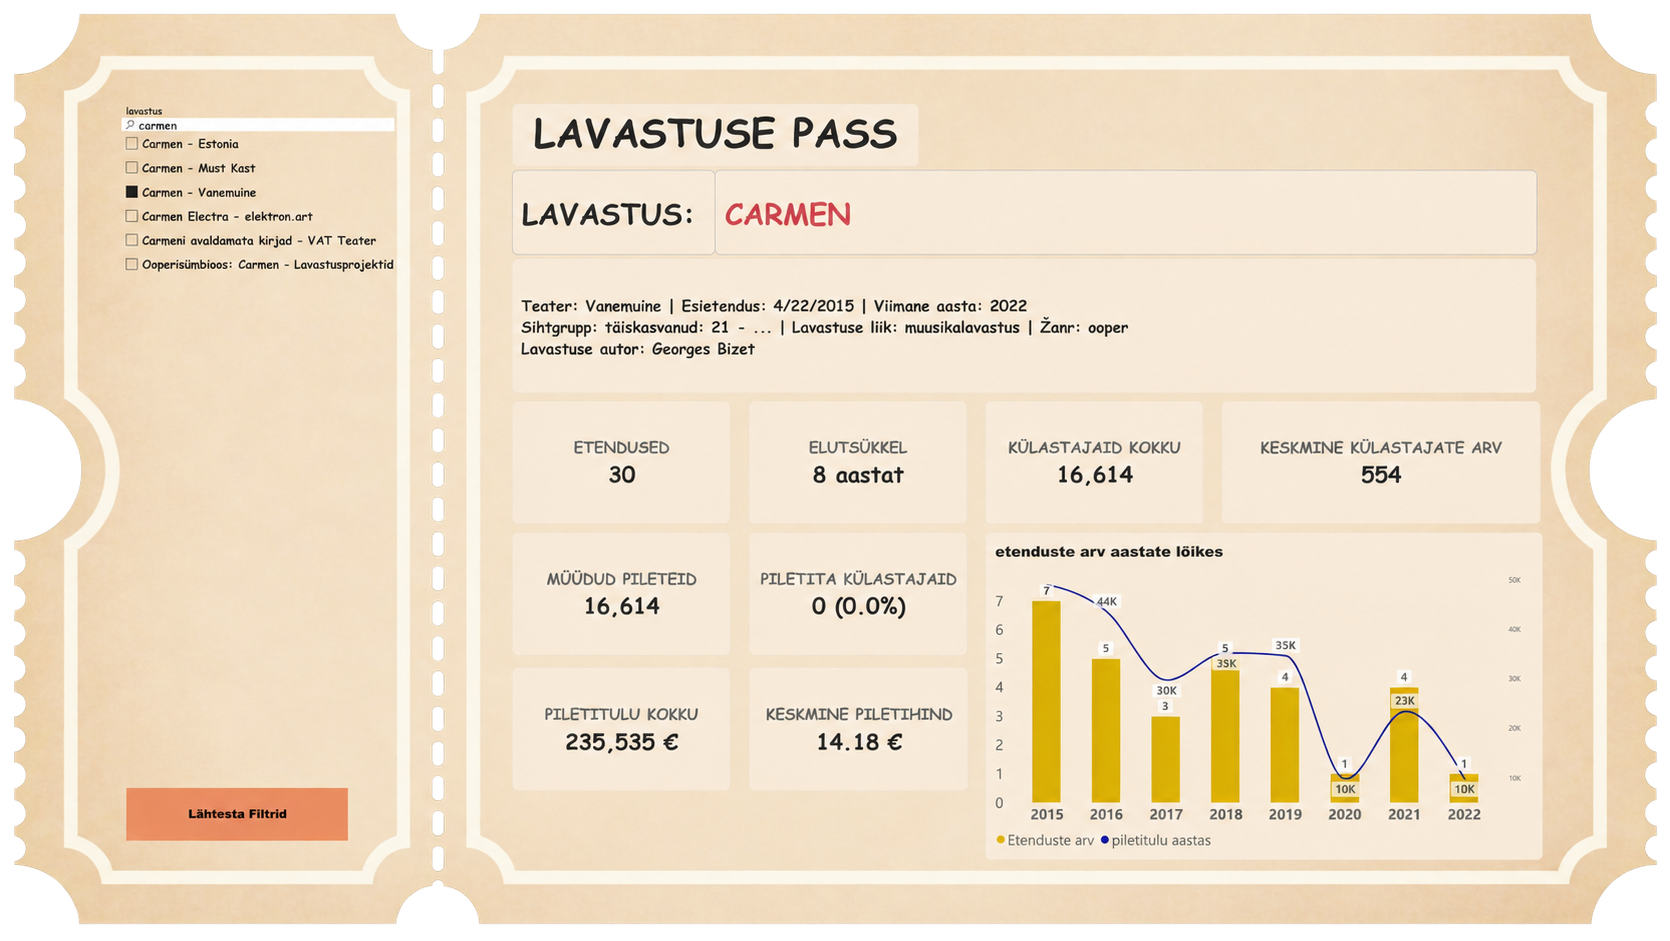

The page's visual inventory and layout, read from the dashboard file:
{"tool":"powerbi","page":{"name":"Lavastuse Pass","canvas":[3000,1670],"ordinal":2},"visuals":[{"type":"textbox","box":[910.1,166.2,742.4,114.4],"z":0},{"type":"slicer","fields":{"Values":["dim_lavastused.Lavastuse Nimi ja Teater"]},"box":[197.4,166.6,497.7,1236],"z":1000},{"type":"lineClusteredColumnComboChart","title":"etenduste arv aastate lõikes","fields":{"Category":["dim_aeg.aasta"],"Y":["'TOP 10' measures.Etenduste arv"],"Y2":["Sum(fact_repertuaar.piletitulu)"]},"box":[1774.9,948.1,1018,598.5],"z":2000},{"type":"cardVisual","fields":{"Data":["_v_measures.v_lavastuse_info"]},"box":[910.1,449.3,1871.4,243.2],"z":3000},{"type":"cardVisual","fields":{"Data":["'Lavastuse Pass' measures.LAVASTUS_LABEL"]},"box":[910.1,287.2,371.6,155],"z":4000},{"type":"cardVisual","fields":{"Data":["_v_measures.v_metric_etendused"]},"box":[910.1,708.3,399.3,224.5],"z":5000},{"type":"cardVisual","fields":{"Data":["_v_measures.v_metric_kulastajad"]},"box":[1774.2,708.3,399.3,224.5],"z":6000},{"type":"cardVisual","fields":{"Data":["_v_measures.v_metric_keskmine"]},"box":[2206.2,708.3,582.9,225],"z":7000},{"type":"cardVisual","fields":{"Data":["_v_measures.v_metric_elutsukkel"]},"box":[1342.1,708.3,399.3,224.5],"z":8000},{"type":"cardVisual","fields":{"Data":["_v_measures.v_muudud_piletid"]},"box":[910.1,948.2,399.3,224.5],"z":9000},{"type":"cardVisual","fields":{"Data":["_v_measures.v_ilma_piletita"]},"box":[1342.5,948.2,399.3,224.5],"z":10000},{"type":"cardVisual","fields":{"Data":["_v_measures.v_piletitulu kokku"]},"box":[910.1,1195.3,399.3,224.5],"z":11000},{"type":"cardVisual","fields":{"Data":["'Lavastuse Pass' measures.Keskmine Piletihind"]},"box":[1342.5,1195.3,401.2,225.7],"z":12000},{"type":"actionButton","title":"Vajuta siia ja kaota filtrid","box":[206,1416,404,96],"z":13000},{"type":"cardVisual","fields":{"Data":["_v_measures.v_hero_title"]},"box":[1281.3,287.2,1501.6,155],"z":14000}]}

Visuals, with their boxes in screenshot pixels (x1, y1, x2, y2), scaled from the page's 3000x1670 canvas onto the 1670x941 screenshot:
textbox: crop(507, 94, 920, 158)
slicer - dim_lavastused.Lavastuse Nimi ja Teater: crop(110, 94, 387, 790)
"etenduste arv aastate lõikes" lineClusteredColumnComboChart: crop(988, 534, 1555, 871)
cardVisual - _v_measures.v_lavastuse_info: crop(507, 253, 1548, 390)
cardVisual - 'Lavastuse Pass' measures.LAVASTUS_LABEL: crop(507, 162, 713, 249)
cardVisual - _v_measures.v_metric_etendused: crop(507, 399, 729, 526)
cardVisual - _v_measures.v_metric_kulastajad: crop(988, 399, 1210, 526)
cardVisual - _v_measures.v_metric_keskmine: crop(1228, 399, 1553, 526)
cardVisual - _v_measures.v_metric_elutsukkel: crop(747, 399, 969, 526)
cardVisual - _v_measures.v_muudud_piletid: crop(507, 534, 729, 661)
cardVisual - _v_measures.v_ilma_piletita: crop(747, 534, 970, 661)
cardVisual - _v_measures.v_piletitulu kokku: crop(507, 674, 729, 800)
cardVisual - 'Lavastuse Pass' measures.Keskmine Piletihind: crop(747, 674, 971, 801)
"Vajuta siia ja kaota filtrid" actionButton: crop(115, 798, 340, 852)
cardVisual - _v_measures.v_hero_title: crop(713, 162, 1549, 249)
